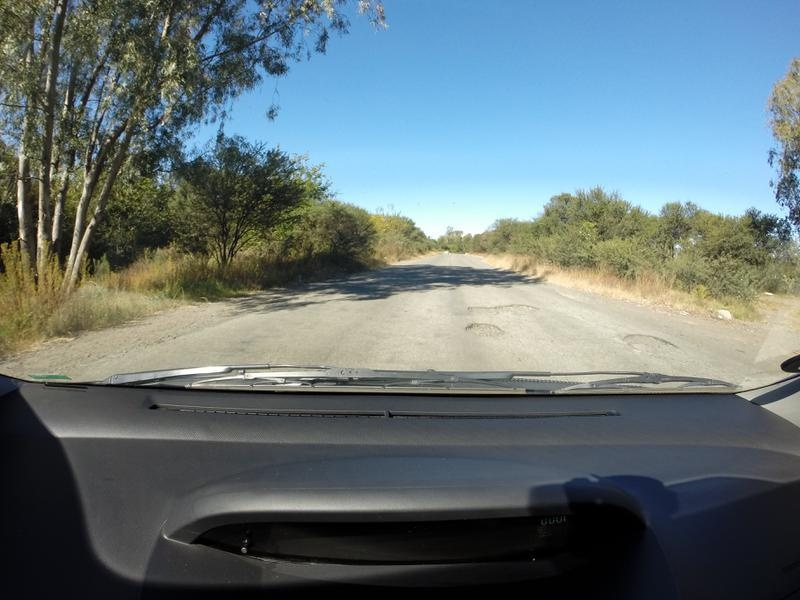pothole: (609, 332, 683, 355), (466, 299, 542, 318), (453, 320, 502, 337)
